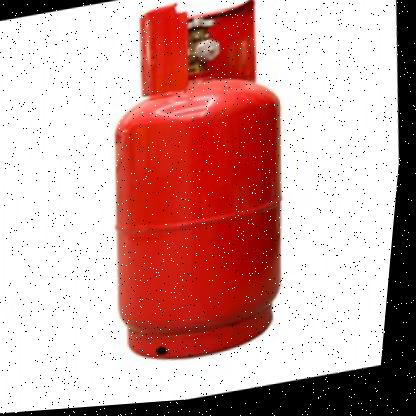gas-tank: (58, 0, 352, 391)
